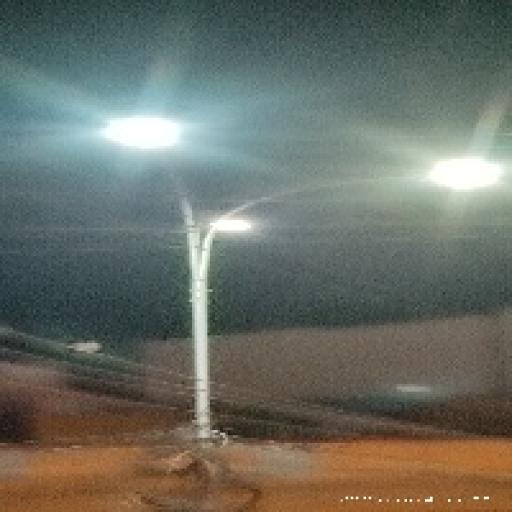Working: (407, 136, 512, 216), (196, 200, 258, 248)
